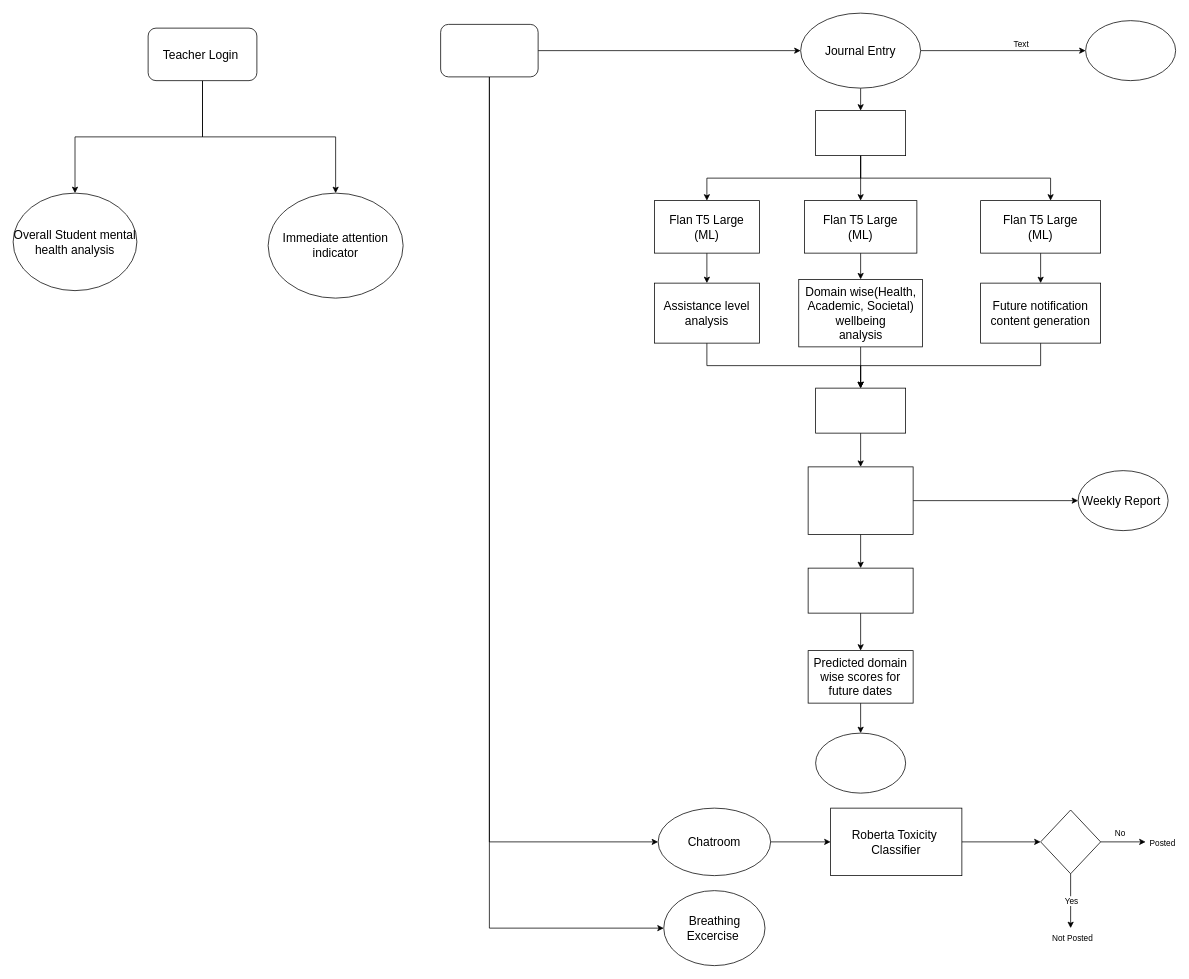
The diagram is 1189 pixels wide and 979 high, and some of its shapes have lost their labels. Here are the shapes that lost their labels. From the top down, the centre of each, then its label:
At pixel 489 50: "Student Login".
At pixel 1130 50: "Word Cloud".
At pixel 860 133: "DB".
At pixel 860 410: "Processing (Pandas)".
At pixel 860 500: "Analysis results combined (daywise scores)".
At pixel 860 590: "Random Forest (ML)".
At pixel 860 762: "Persnolised Wellness Reminder".
At pixel 1070 841: "Toxic?".
